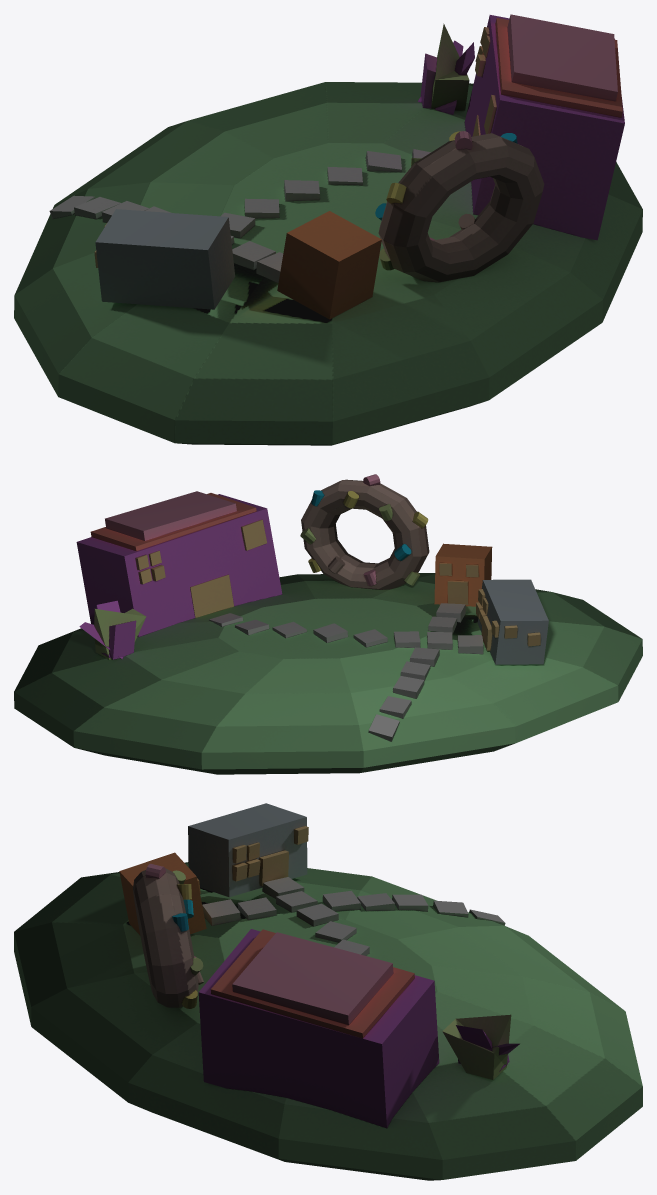
File: house.dae
The picture shows the model from 3 angles, top to bottom: view 1: azimuth 30°, elevation 25°; view 2: azimuth 150°, elevation 25°; view 3: azimuth 270°, elevation 25°; orthographic projection. The views are drawn at different scales.
Parts seen in each view (by area): view 1: model; view 2: model; view 3: model.
Boxes of the visible parts, bbox=[...] form: model: bbox=[14, 14, 642, 445]; model: bbox=[14, 474, 642, 774]; model: bbox=[14, 803, 642, 1180].
Size of the model in its own units: 0.9054 by 0.8311 by 0.3327.
Materials: 12 (12 with a texture image).
